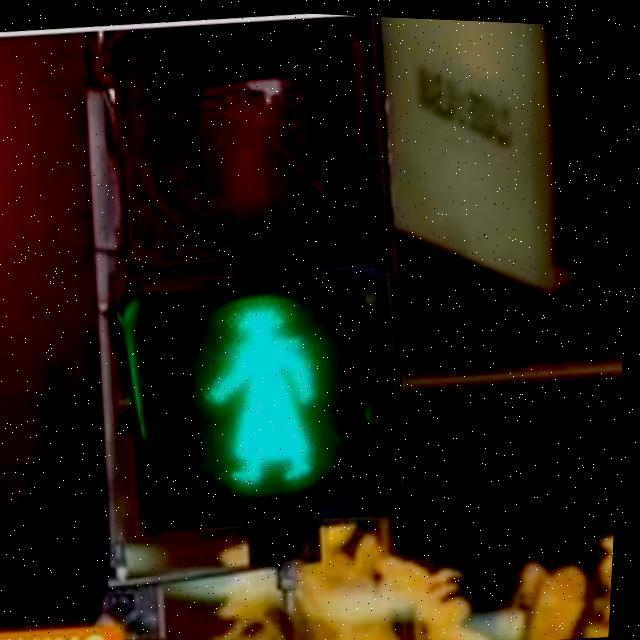greenlight: (122, 32, 412, 537)
